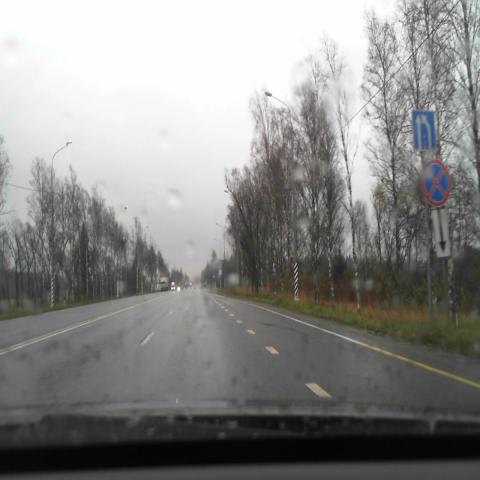8_2_3: (432, 210, 450, 258)
